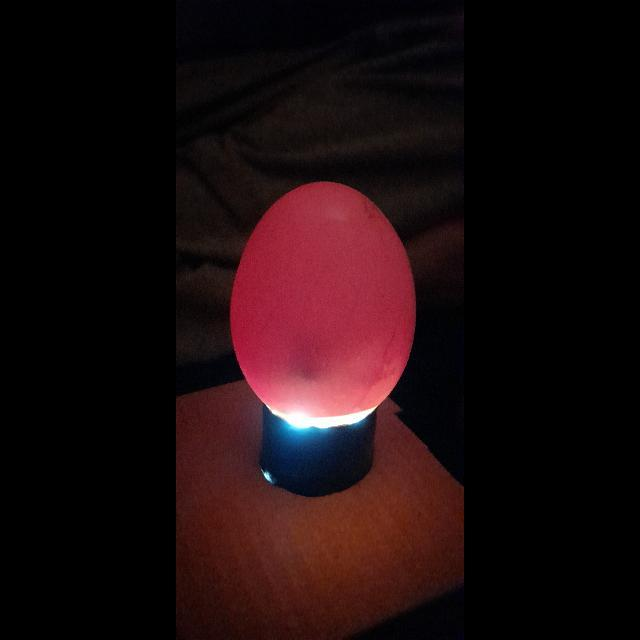Fertile: (227, 180, 421, 430)
